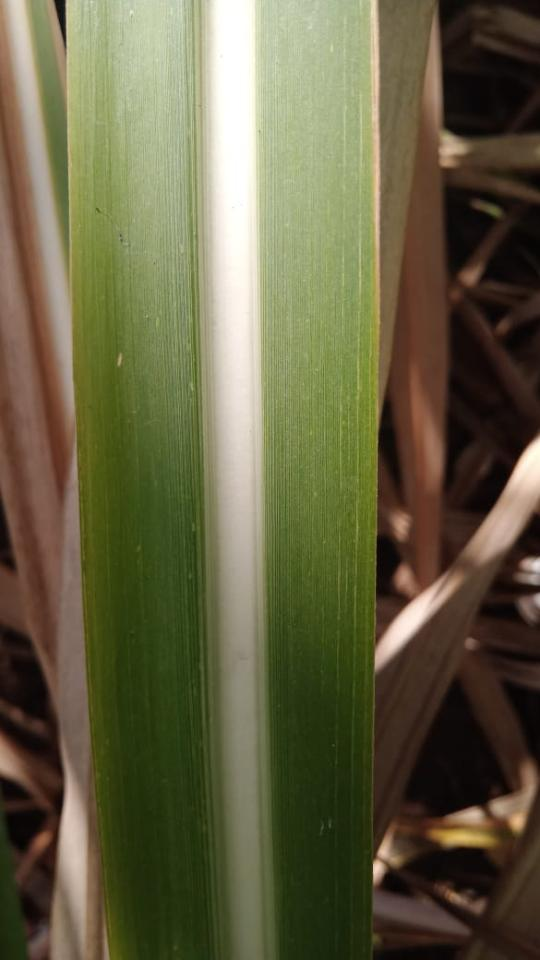Healthy: (69, 0, 377, 959)
